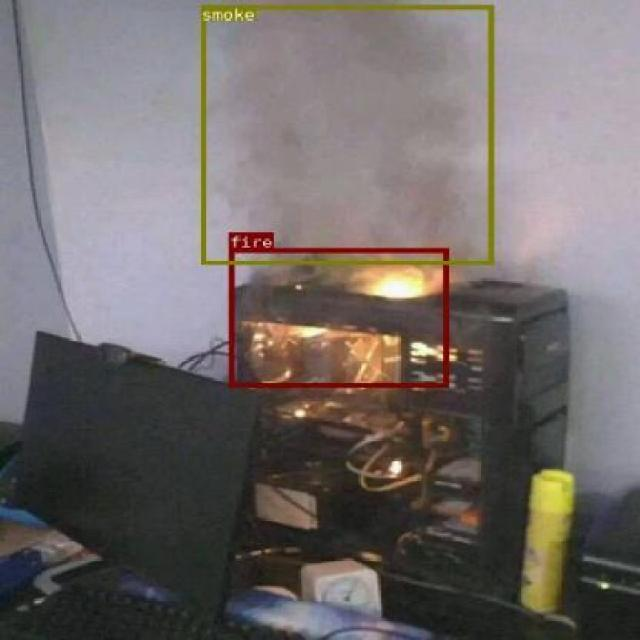Fire: (228, 248, 448, 386)
Smoke: (200, 4, 492, 264)
